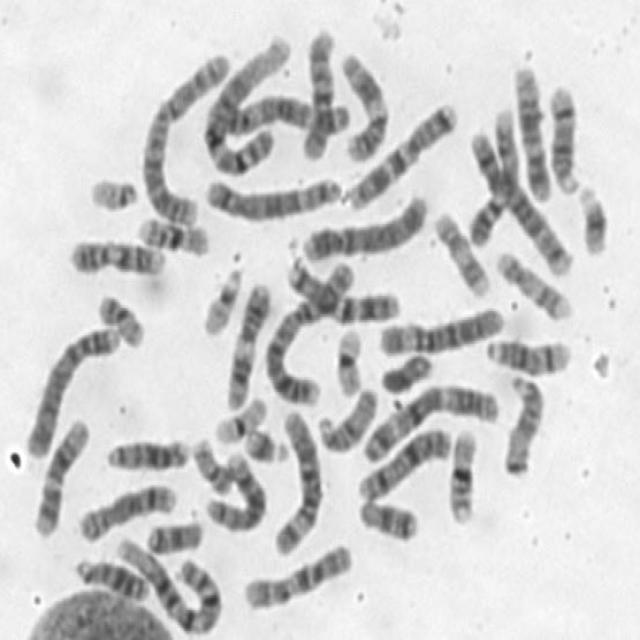A1: (198, 23, 295, 177), (112, 529, 225, 637)
A2: (136, 44, 235, 228), (261, 253, 358, 407)
A3: (357, 376, 502, 466), (211, 87, 353, 140)
B4: (20, 314, 123, 460), (296, 185, 432, 264)
B5: (464, 120, 574, 278), (200, 167, 344, 222)
C10: (237, 535, 357, 613), (296, 20, 338, 162)
C11: (221, 274, 275, 412), (334, 45, 391, 165)
C12: (29, 408, 93, 540), (508, 57, 554, 204)
C6: (268, 403, 325, 557), (373, 298, 505, 358)
C7: (343, 95, 462, 212), (281, 251, 404, 326)
C8: (72, 475, 180, 544), (202, 445, 270, 533)
C9: (463, 101, 521, 248), (64, 230, 170, 278)
D13: (70, 550, 152, 602), (102, 428, 194, 473)
D14: (543, 76, 584, 196), (480, 328, 576, 377)
D15: (497, 365, 548, 479), (312, 379, 381, 455)
E16: (442, 420, 481, 526), (132, 209, 212, 258)
E17: (490, 242, 576, 323), (429, 203, 493, 299)
E18: (353, 490, 422, 545), (143, 511, 206, 557)
F19: (208, 388, 270, 444), (329, 319, 366, 398)
F20: (92, 284, 149, 350), (188, 430, 236, 497)
G21: (574, 174, 612, 258), (240, 418, 292, 466)
G22: (197, 258, 245, 338), (84, 168, 140, 214)
X: (353, 419, 455, 503)
Y: (374, 346, 435, 396)
